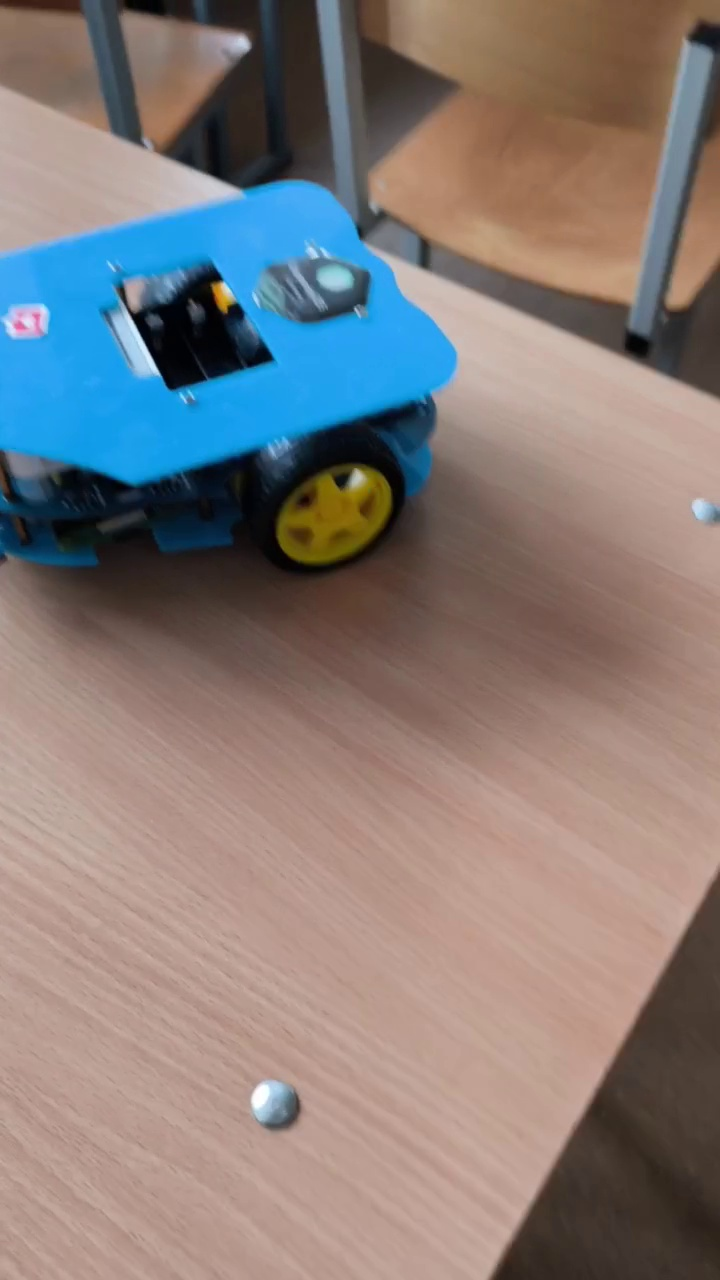robot: (1, 176, 459, 577)
